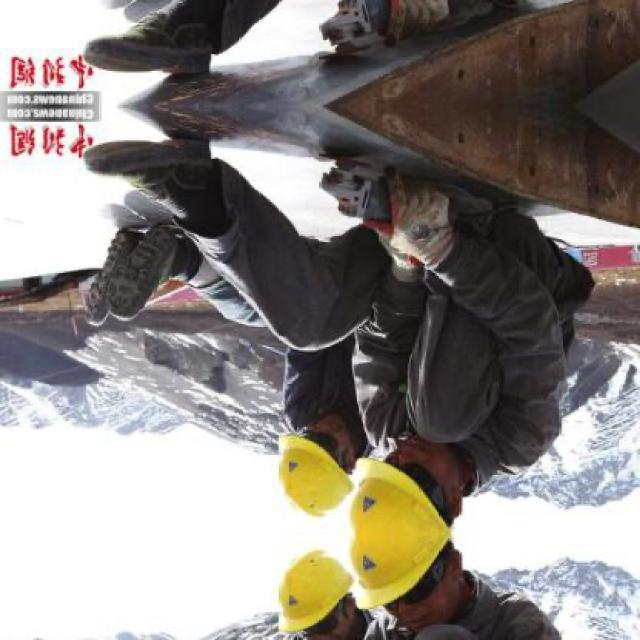con casco: (346, 451, 461, 556), (282, 406, 371, 524)
